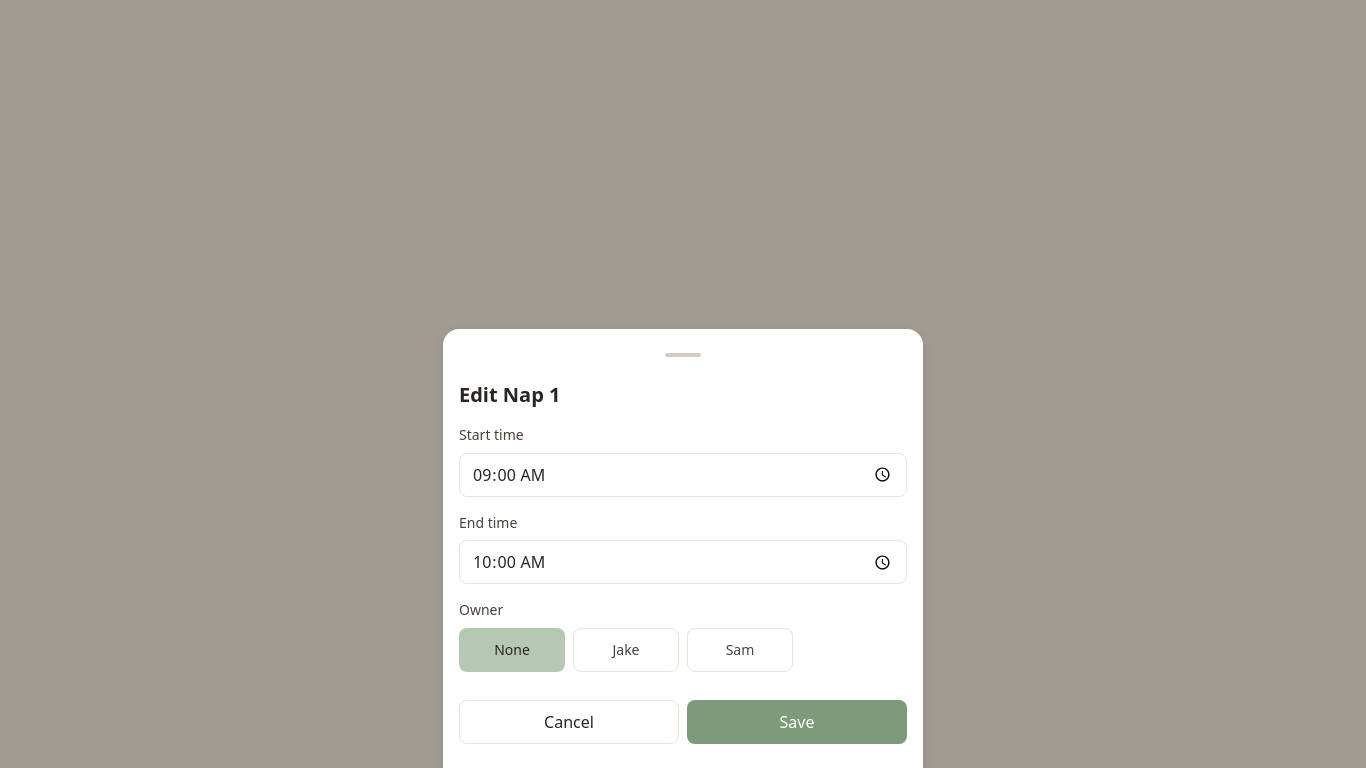
Test: EventEditDrawerV3 › blocks save when end time is not after start time
Replace the text in the time field labelled "End time" with "08:30": {"x": 683, "y": 562} [459, 540, 907, 584]
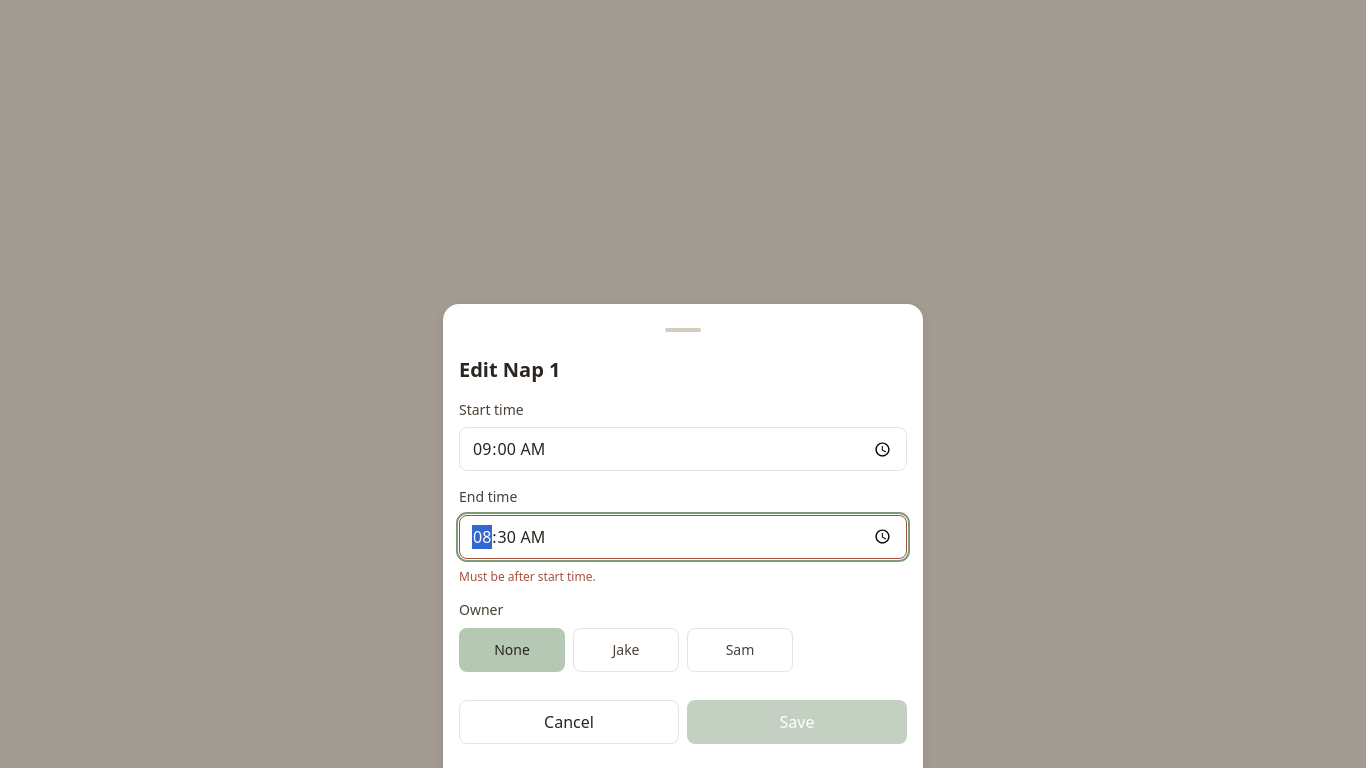
Check: the message shows "after start time", box [459, 568, 596, 585]
Check: the button "Save" is disabled, box [687, 700, 907, 744]
